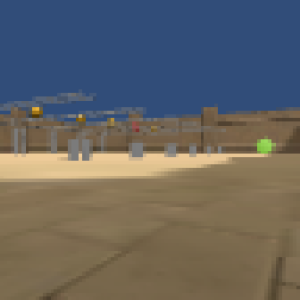badGoal: (132, 120, 141, 133)
goodGoal: (255, 136, 273, 153)
goodGoalMulti: (29, 105, 44, 118), (75, 115, 85, 124), (107, 116, 116, 126), (148, 125, 157, 134)
wall: (66, 137, 90, 160), (13, 127, 28, 154), (47, 129, 59, 156), (131, 143, 145, 159), (165, 143, 179, 157), (188, 145, 198, 158)
